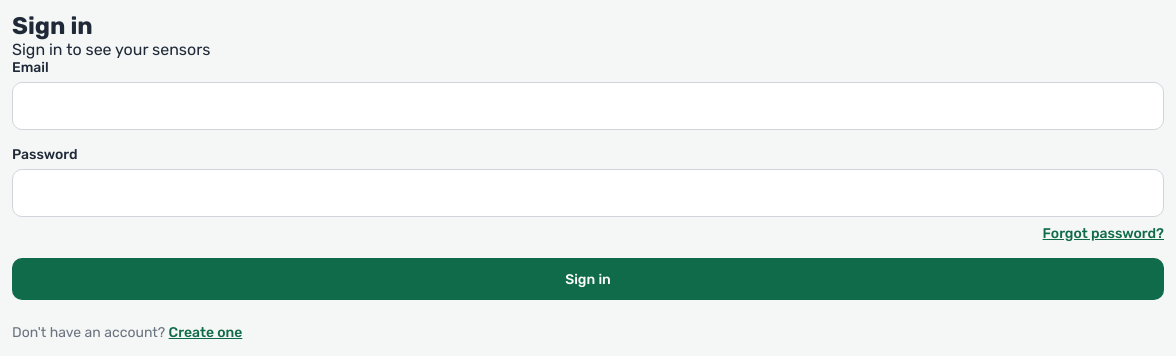
Test: Login › signs in and keeps the button busy while the page leaves
The width and height of the screenshot is (1176, 356).
Type "sara@example.com" into the field labelled "Email" at (588, 106), box x1=12 y1=82 x2=1164 y2=130
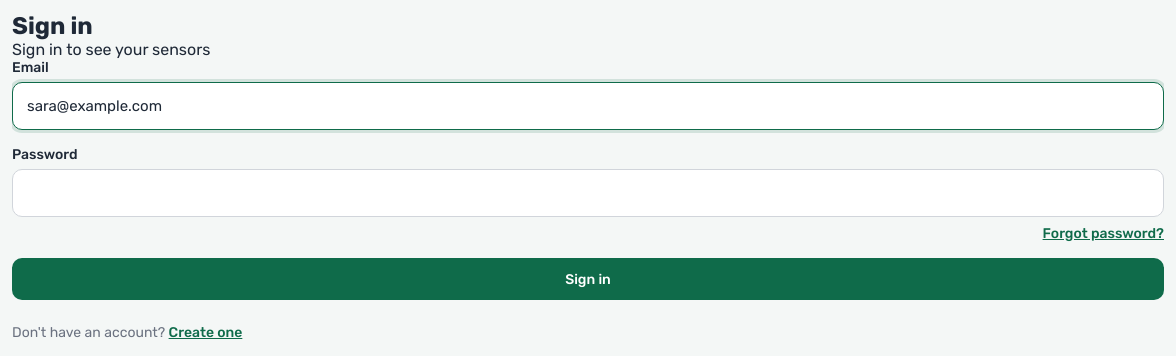
Type "secret123" into the password field labelled "Password" at (588, 193), box x1=12 y1=169 x2=1164 y2=217
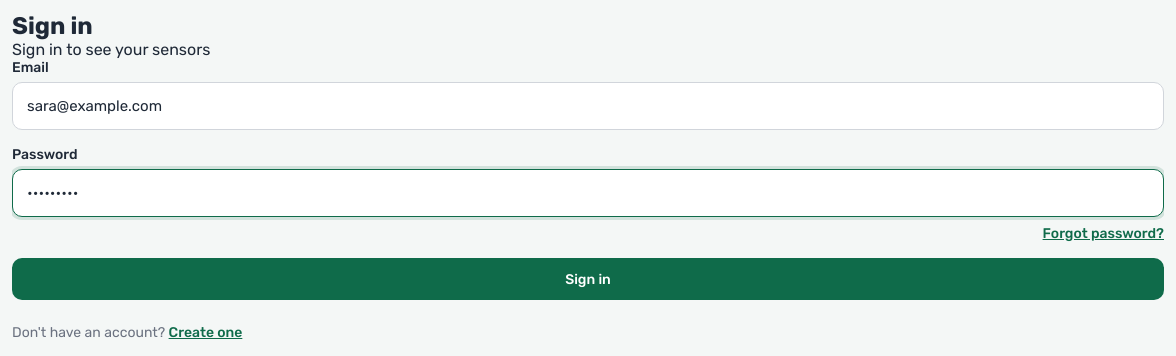
Click the button "Sign in" at (588, 279), box x1=12 y1=258 x2=1164 y2=300
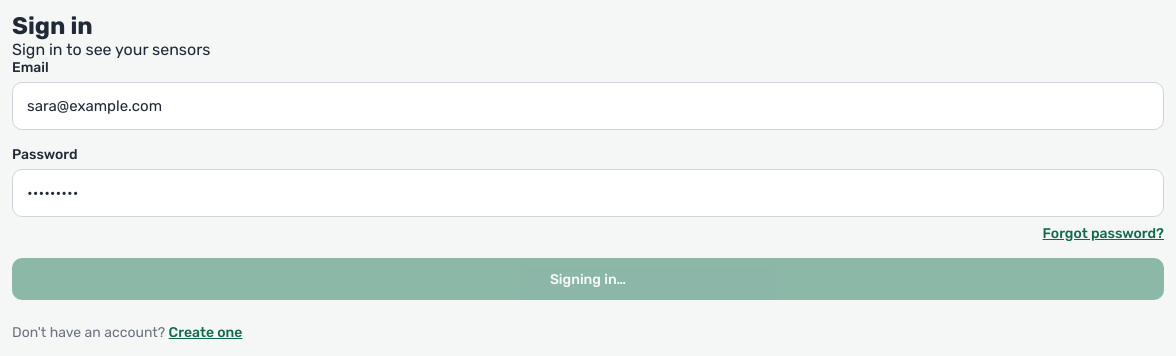
Expected: the button "Signing in…" is disabled, x1=12 y1=258 x2=1164 y2=300
